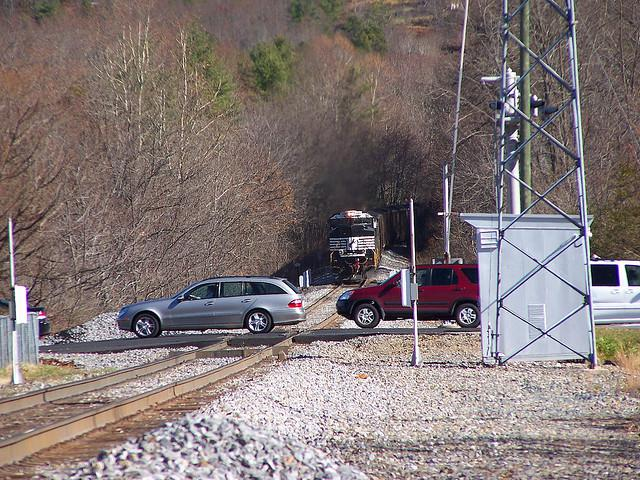Train: (326, 204, 430, 285)
